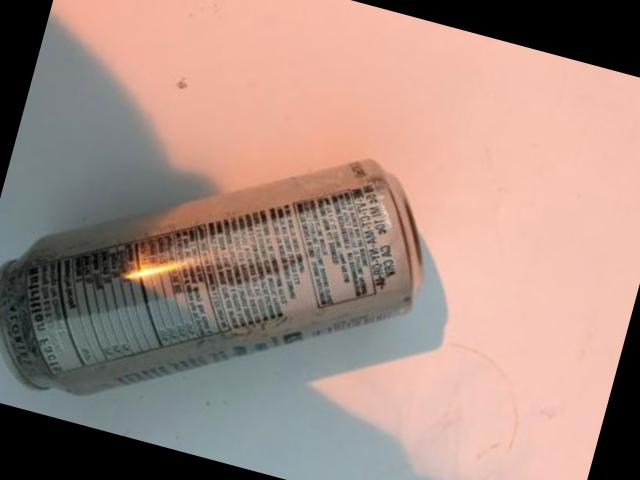metal: (0, 158, 424, 392)
